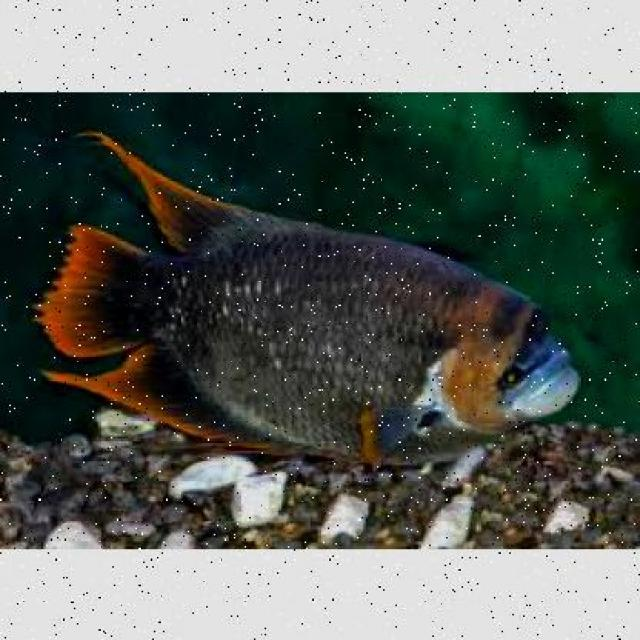gurame: (56, 170, 584, 464)
